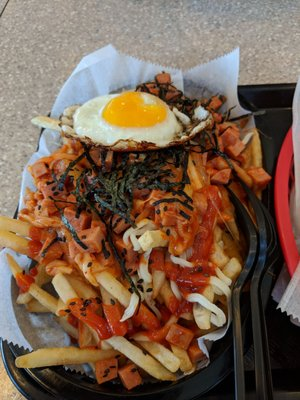soup: (18, 83, 255, 393)
